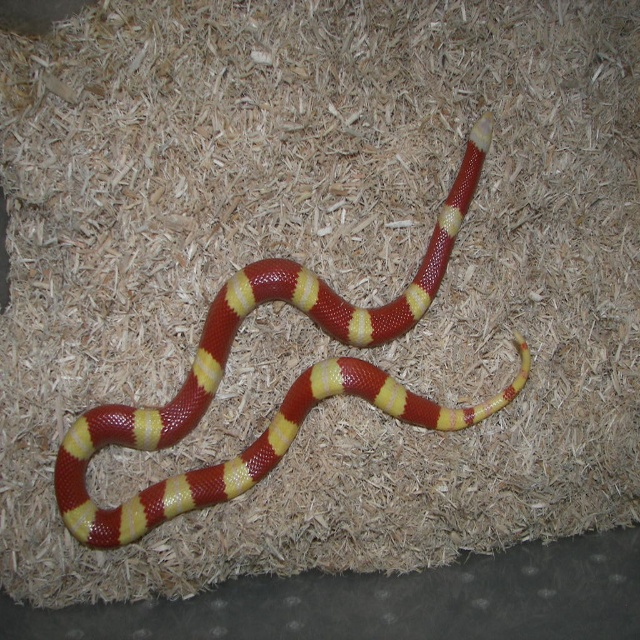Snake: (58, 111, 533, 550)
